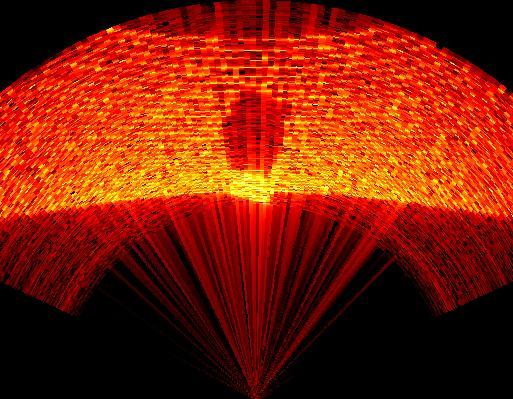box_crate: (221, 85, 293, 187)
